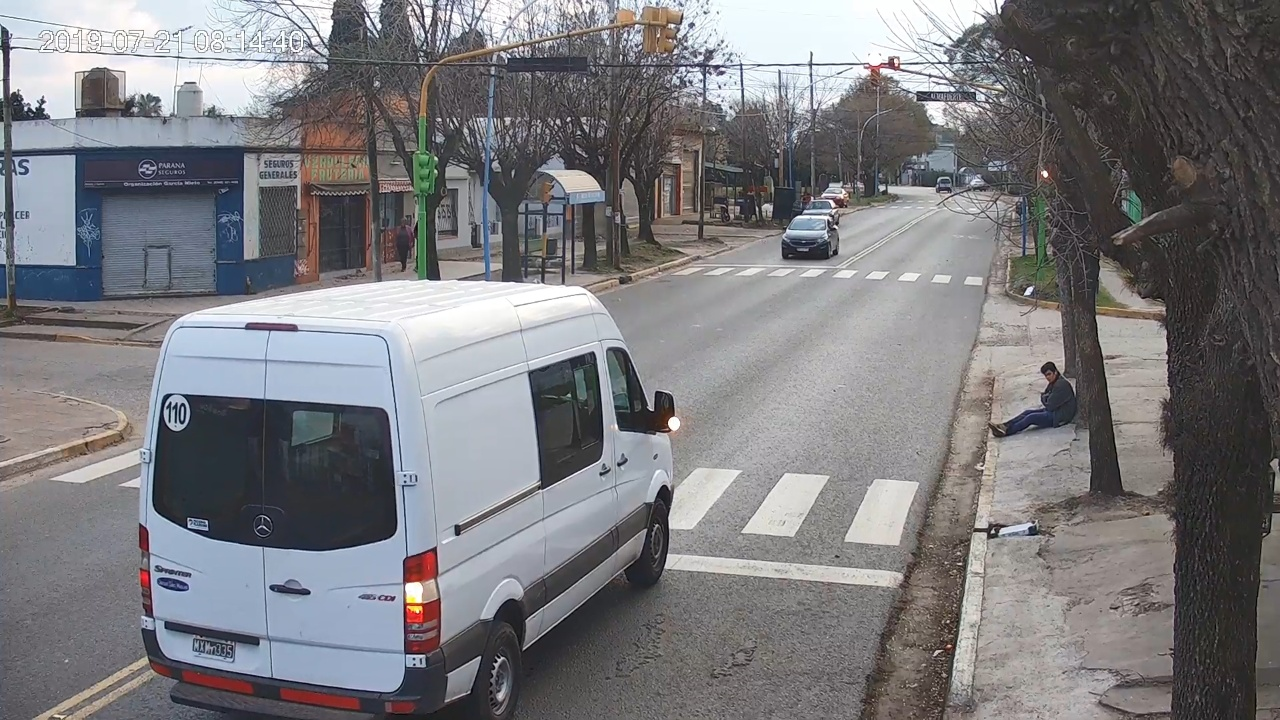car: (139, 279, 676, 720)
front car: (782, 215, 839, 258)
traffic light: (869, 52, 881, 88)
